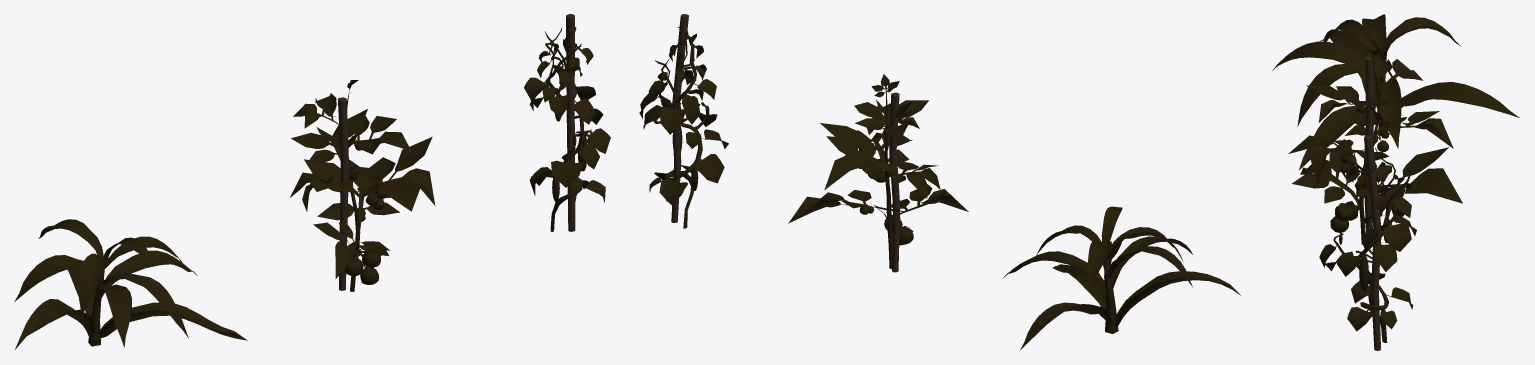
3 views of the same model, side by side, from view 1: azimuth 30°, elevation 25°; view 2: azimuth 150°, elevation 25°; view 3: azimuth 270°, elevation 25° (orthographic). The views are drawn at different scales.
Parts seen in each view (by area): view 1: KB3D_MTM_PropCropTomatoes_A_Main, KB3D_MTM_PropCropCorn_A_Main, KB3D_MTM_PropCropTomatoes_B_Main; view 2: KB3D_MTM_PropCropTomatoes_A_Main, KB3D_MTM_PropCropCorn_A_Main, KB3D_MTM_PropCropTomatoes_B_Main; view 3: KB3D_MTM_PropCropTomatoes_A_Main, KB3D_MTM_PropCropCorn_A_Main, KB3D_MTM_PropCropTomatoes_B_Main.
Part boxes in pixels (left/top/right/bottom): KB3D_MTM_PropCropTomatoes_A_Main: left=290, top=80, right=435, bottom=291; KB3D_MTM_PropCropCorn_A_Main: left=14, top=219, right=247, bottom=349; KB3D_MTM_PropCropTomatoes_B_Main: left=524, top=14, right=610, bottom=231; KB3D_MTM_PropCropTomatoes_A_Main: left=788, top=74, right=968, bottom=272; KB3D_MTM_PropCropCorn_A_Main: left=1002, top=206, right=1240, bottom=349; KB3D_MTM_PropCropTomatoes_B_Main: left=639, top=14, right=728, bottom=228; KB3D_MTM_PropCropTomatoes_A_Main: left=1288, top=46, right=1462, bottom=244; KB3D_MTM_PropCropCorn_A_Main: left=1272, top=14, right=1519, bottom=169; KB3D_MTM_PropCropTomatoes_B_Main: left=1319, top=135, right=1416, bottom=350.
Size of the model in its own units: 2.97 by 1.01 by 1.09.
